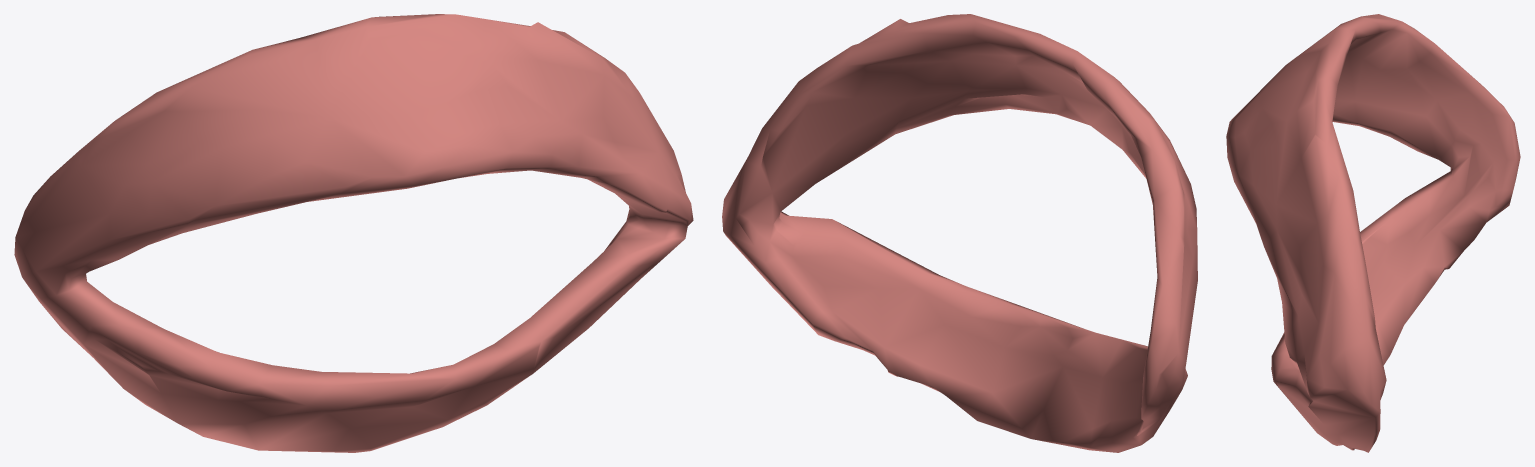
3 views of the same model, side by side, from view 1: azimuth 30°, elevation 25°; view 2: azimuth 150°, elevation 25°; view 3: azimuth 270°, elevation 25° (orthographic). The views are drawn at different scales.
Parts seen in each view (by area): view 1: ZA_a5fa3f5d011bab36; view 2: ZA_a5fa3f5d011bab36; view 3: ZA_a5fa3f5d011bab36.
Boxes of the visible parts, x1,y1,x2,y2 form: ZA_a5fa3f5d011bab36: (14, 14, 693, 452); ZA_a5fa3f5d011bab36: (722, 14, 1197, 452); ZA_a5fa3f5d011bab36: (1226, 14, 1520, 452).
Bounding box in the file's own units: 0.0336 × 0.0242 × 0.0173.
